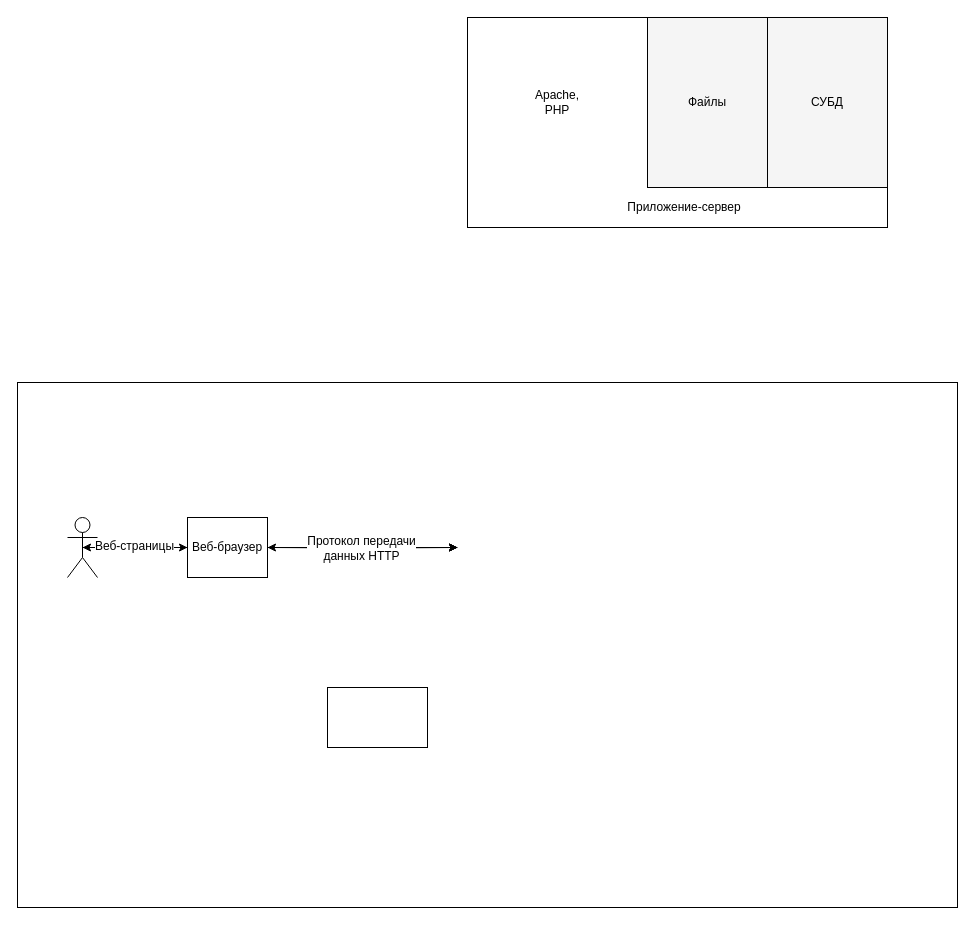
Image size: 975x925. Some labels were removed from this diagram. Each missing label, with the box of its shape:
MS Visual Code: (326, 686, 428, 748)
Пользователь: (66, 516, 98, 578)
